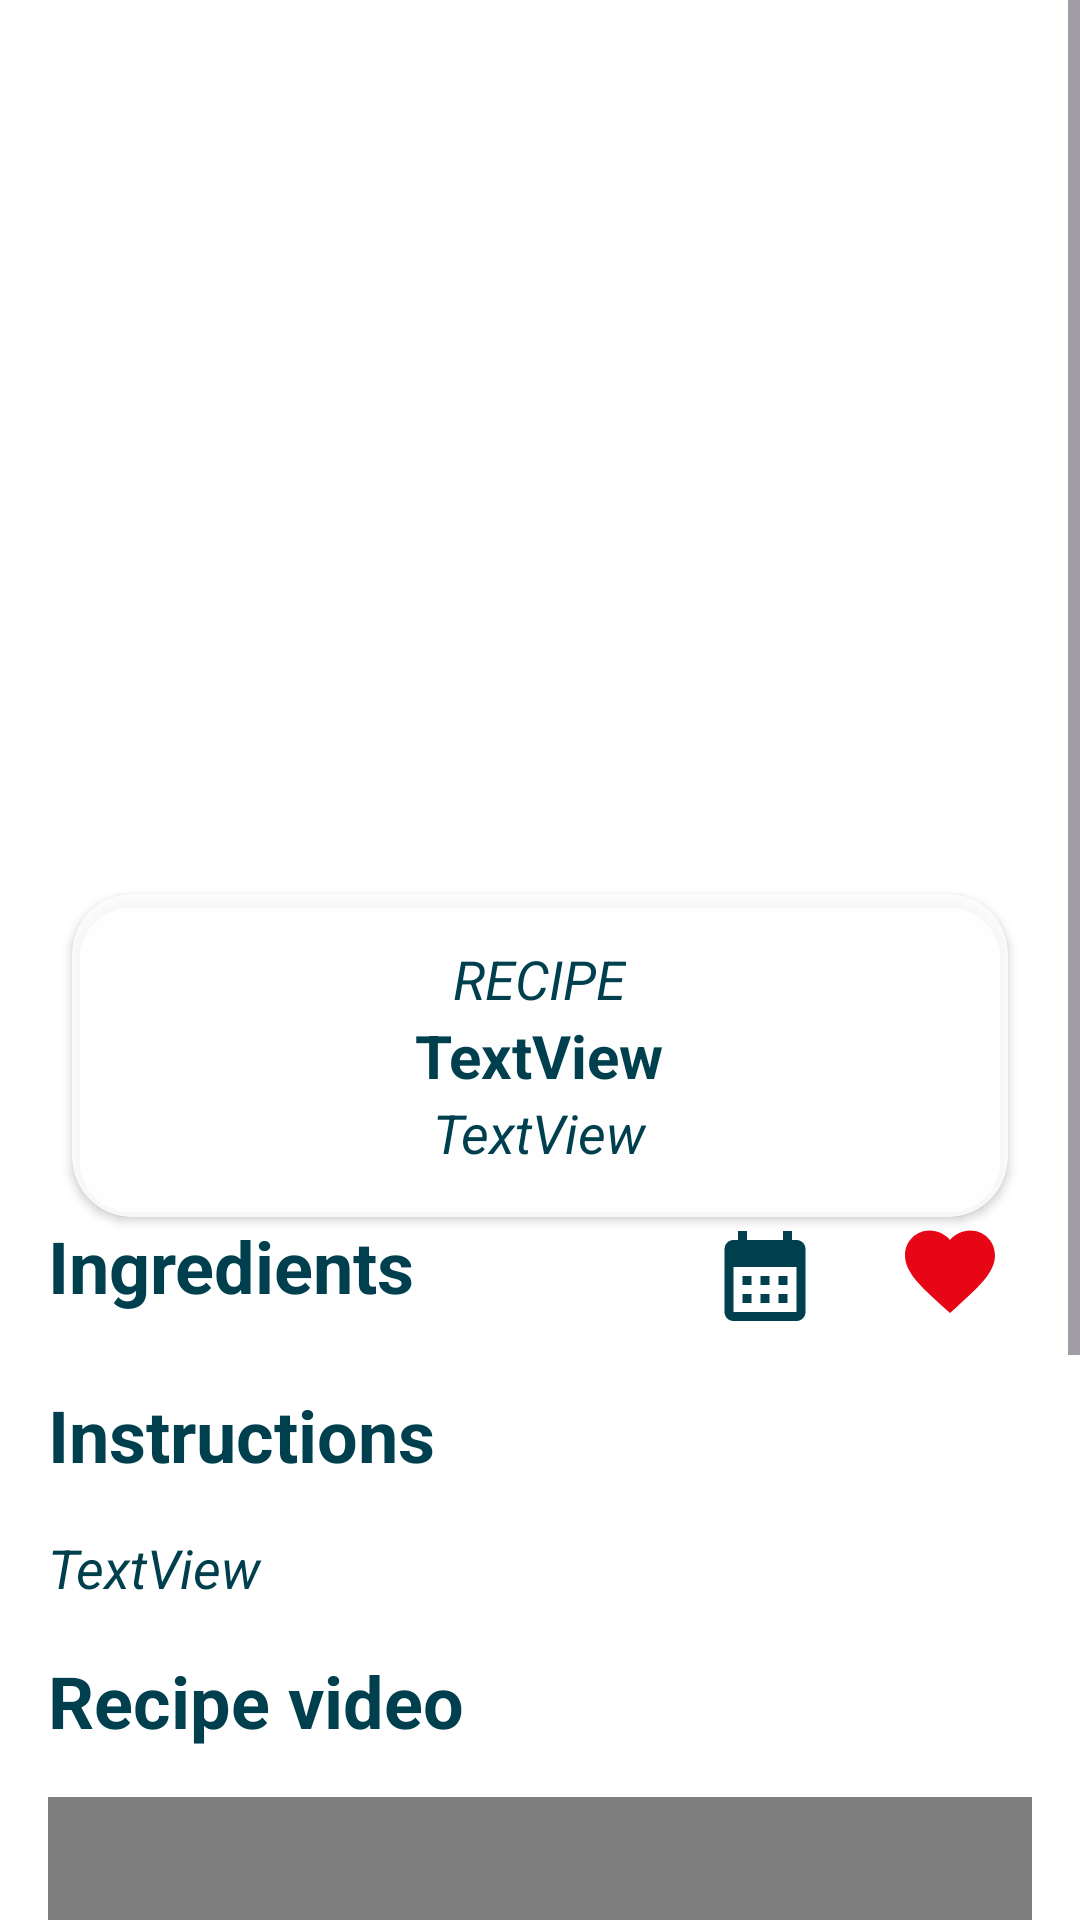

Where to tap for icons on this 1080x1920 app screen, as (x,y):
calendar month: (765,1276)
favorite: (950,1271)
